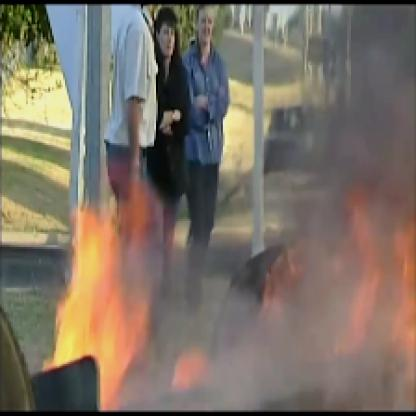Fire: (35, 186, 414, 414)
